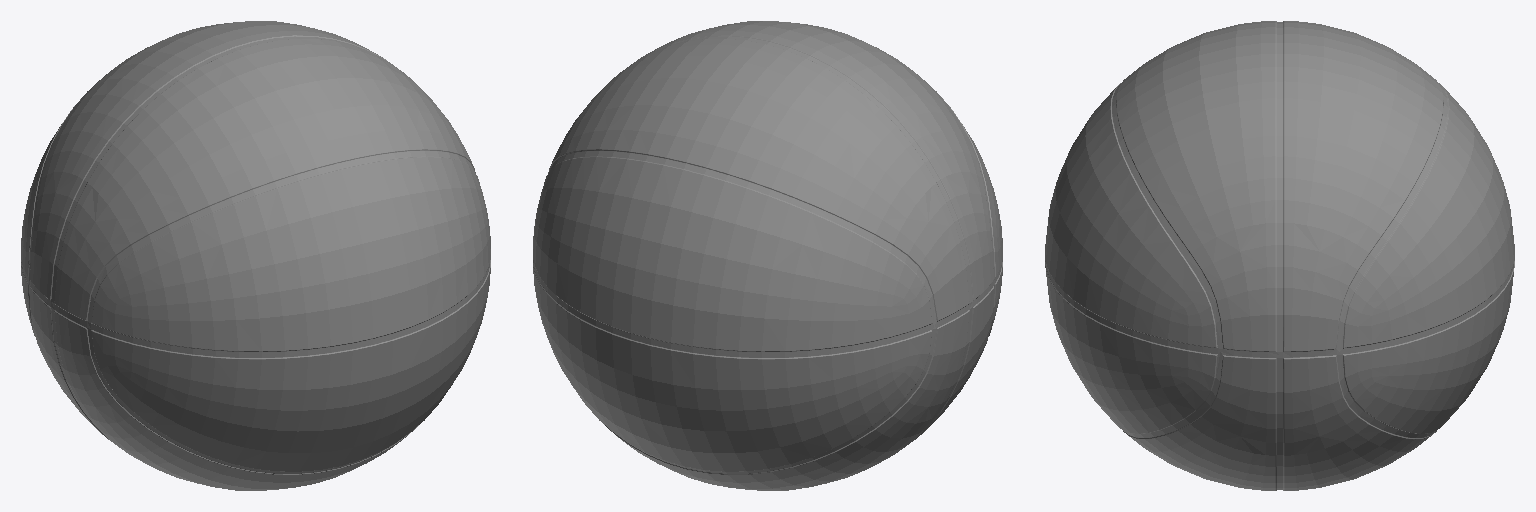
File: NBA_BASKETBALL.obj
3 views of the same model, side by side, from view 1: azimuth 30°, elevation 25°; view 2: azimuth 150°, elevation 25°; view 3: azimuth 270°, elevation 25° (orthographic).
Visible parts, largest first — view 1: basket_ball; view 2: basket_ball; view 3: basket_ball.
Part boxes in pixels (bbox=[...]): basket_ball: bbox=[21, 21, 490, 490]; basket_ball: bbox=[533, 21, 1002, 490]; basket_ball: bbox=[1045, 21, 1514, 490].
Size of the model in its own units: 38 by 38.01 by 38.01.